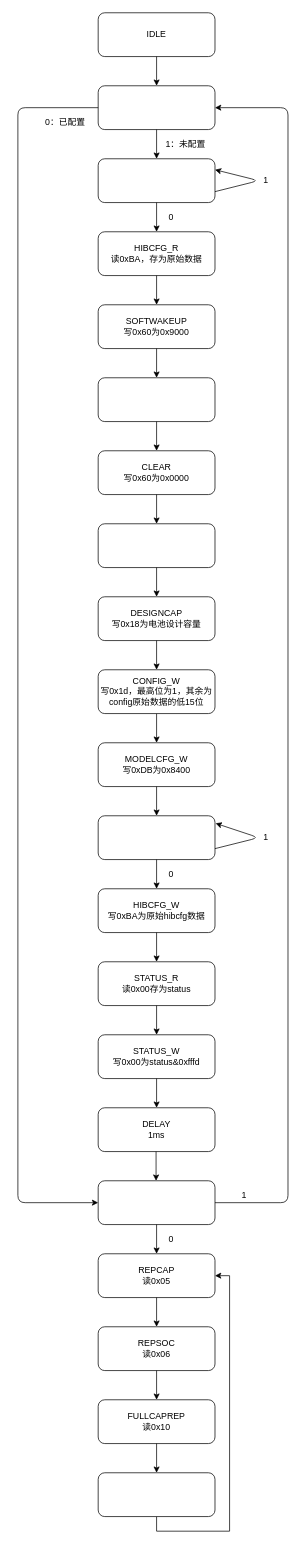
The diagram is 307 pixels wide and 1550 high, and some of its shapes have lost their labels. The shapes that lost their labels are listed below. From the top down, each one's box as (x1, y1, x2, y2) in pixels, then its label:
(97, 85, 215, 130): STATUS_S 读地址0x00的第1位
(97, 158, 215, 203): FSTAT 读0x3D的第0位
(97, 377, 215, 422): HIBCFG_CL 写0xBA为0x0000
(97, 523, 215, 568): CONFIG_R 读0x1d为config原始数据
(97, 815, 215, 860): MODELCFG_R 读0xDB的第15位
(97, 1180, 215, 1225): STATUS_V 读0x00的第1位
(97, 1472, 215, 1517): TEMP 读0x08
